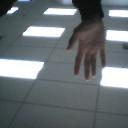hand: (66, 20, 110, 82)
